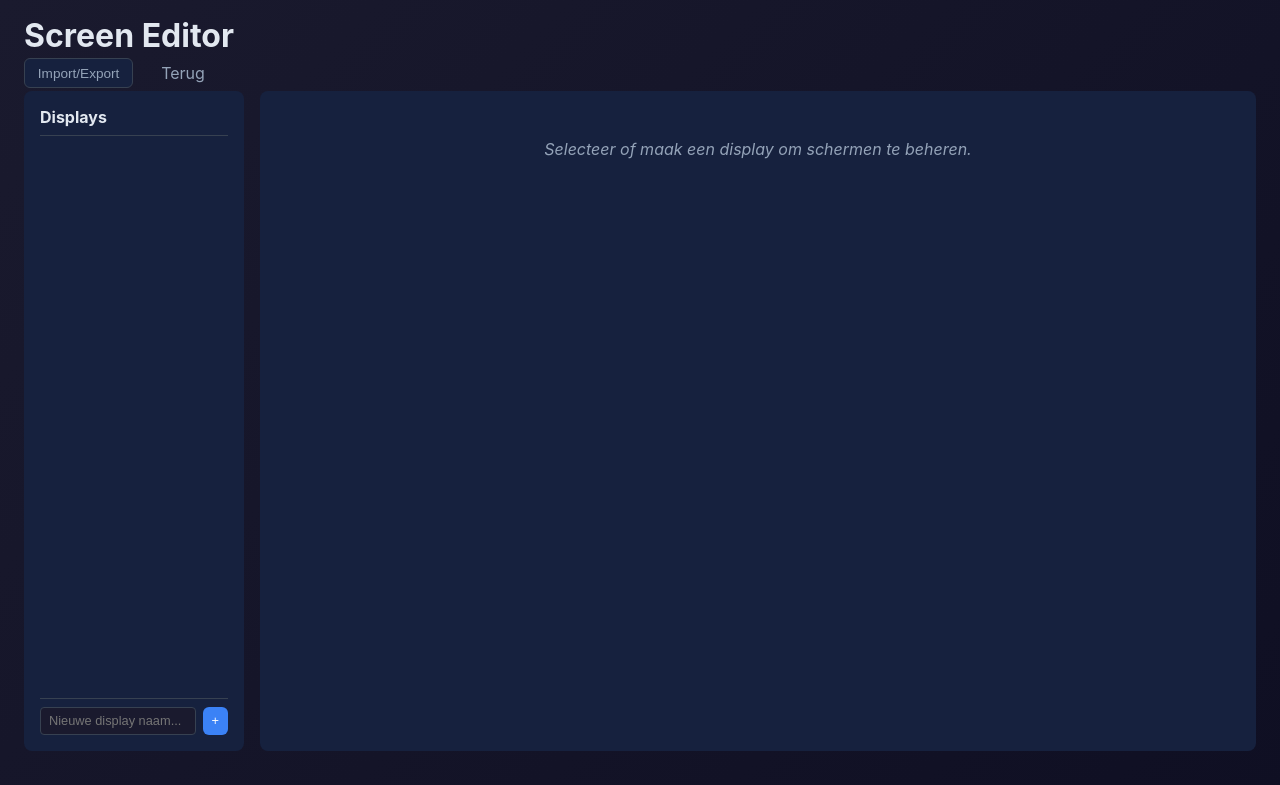
Test case: ScreenEditor page › import/export functionality › opens import/export section
Click the button "Import/Export" at (79, 73), box [24, 58, 133, 88]
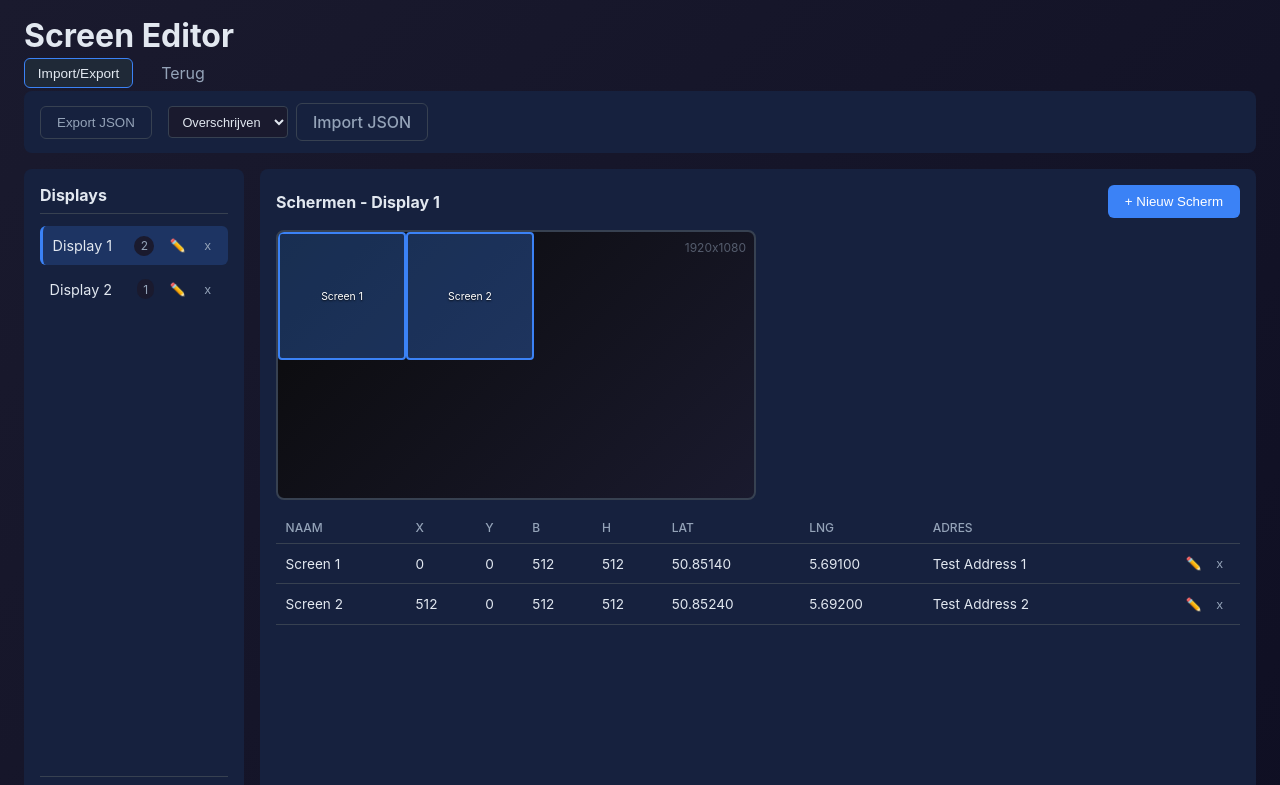
Now the button "Export JSON" is shown, box [40, 106, 152, 138]
